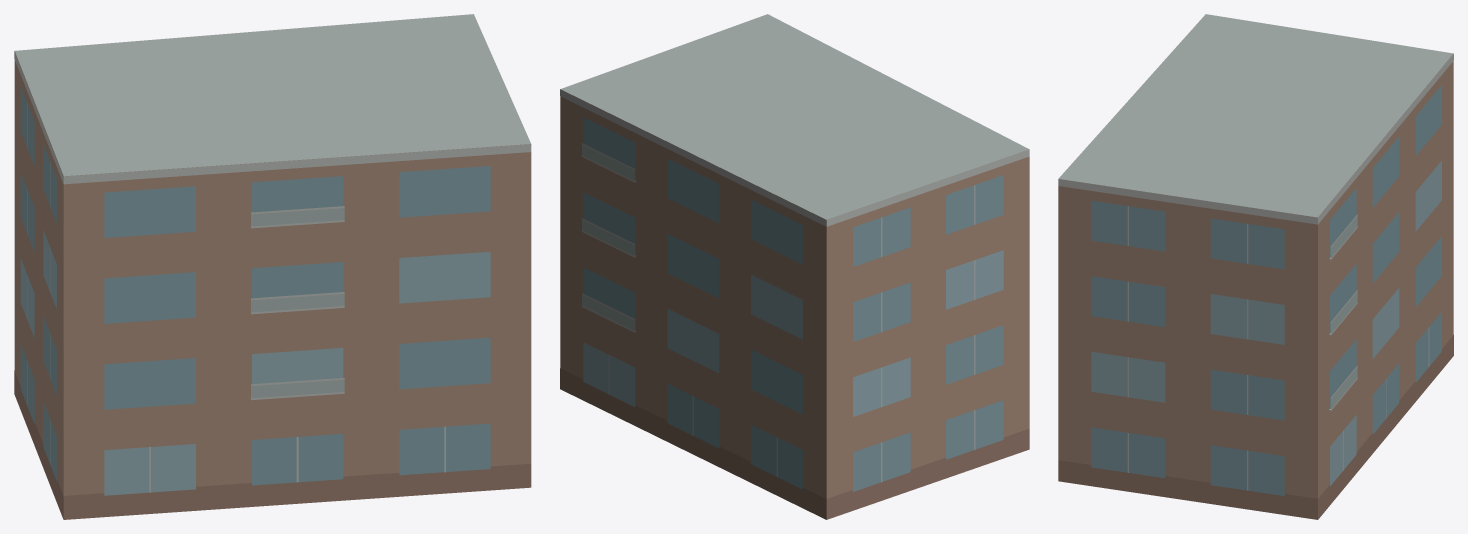
Rendered from survey-upis-32697567.glb.
The picture shows the model from 3 angles, left to right: view 1: azimuth 30°, elevation 25°; view 2: azimuth 150°, elevation 25°; view 3: azimuth 270°, elevation 25°; orthographic projection. The views are drawn at different scales.
Visible parts, largest first — view 1: survey-upis-32697567.tmp; view 2: survey-upis-32697567.tmp; view 3: survey-upis-32697567.tmp.
Part boxes in pixels (x1,y1,x2,y2): survey-upis-32697567.tmp: (14, 14, 531, 519); survey-upis-32697567.tmp: (560, 14, 1029, 519); survey-upis-32697567.tmp: (1058, 14, 1453, 519).
Bounding box in the file's own units: 15.02 × 10.4 × 12.34.
